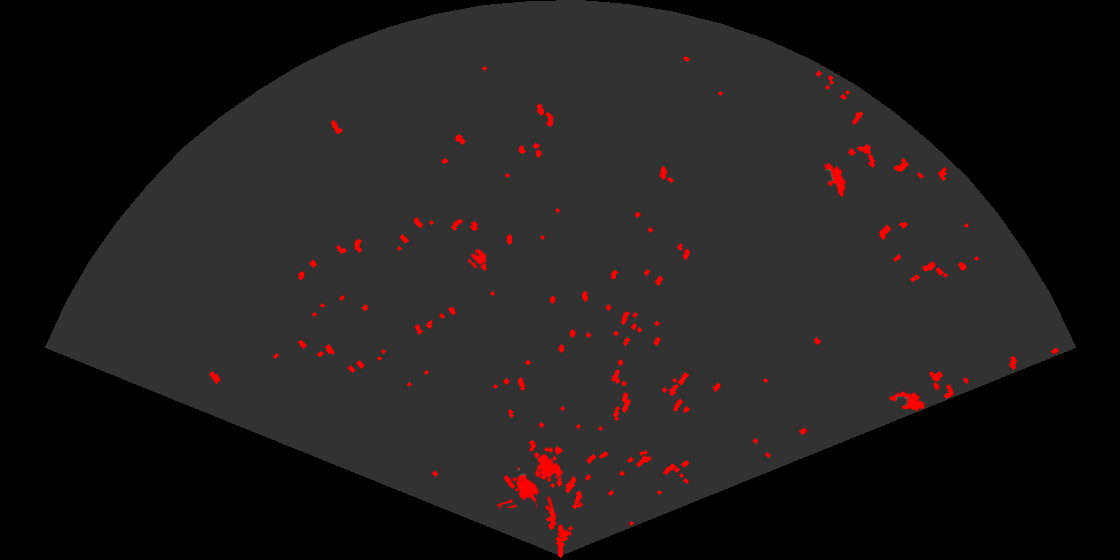AUV: (823, 161, 848, 199), (887, 390, 927, 413)
ball: (466, 247, 488, 270)
cage: (497, 452, 565, 508)
